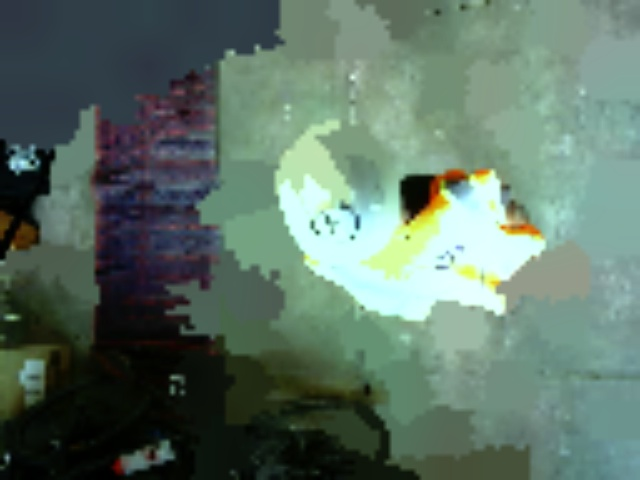three: (310, 205, 358, 245)
